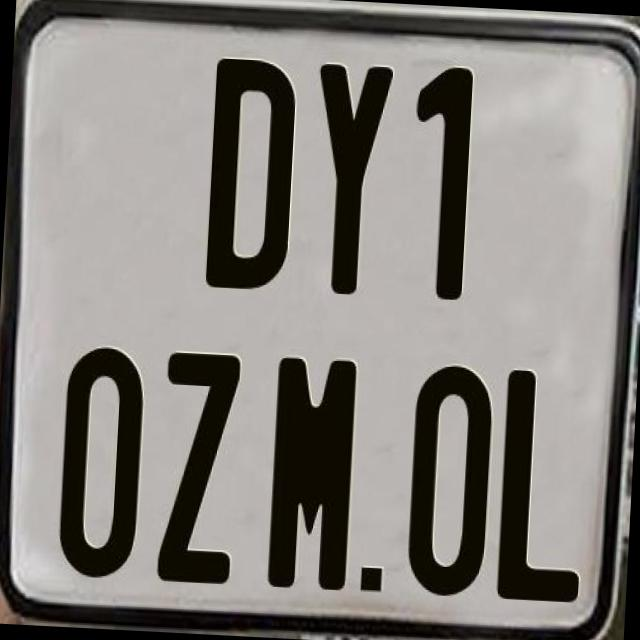0: (402, 363, 497, 608), (54, 342, 150, 578)
1: (403, 66, 473, 300)
D: (201, 56, 299, 294)
L: (495, 368, 592, 606)
M: (264, 353, 360, 597)
Y: (304, 60, 390, 299)
Z: (156, 350, 246, 590)
